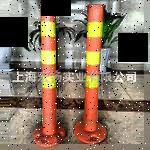bench: (30, 1, 66, 146), (72, 3, 107, 143)
